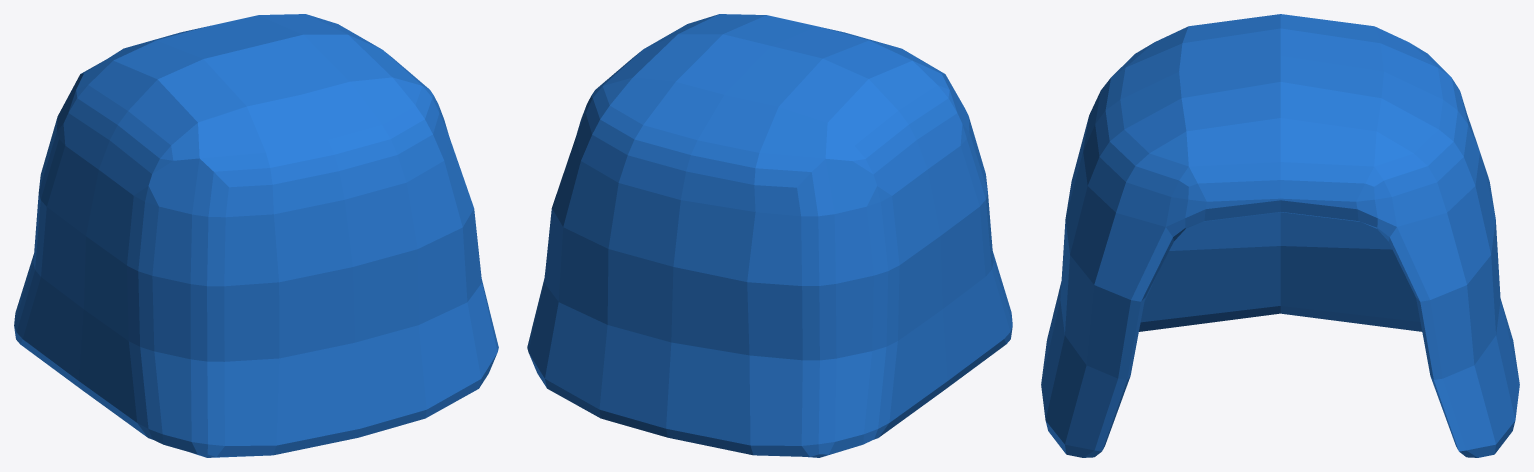
File: blue helmet.fbx
3 renders of one model, left to right at view 1: azimuth 30°, elevation 25°; view 2: azimuth 150°, elevation 25°; view 3: azimuth 270°, elevation 25°, orthographic. The views are drawn at different scales.
Parts seen in each view (by area): view 1: Cube; view 2: Cube; view 3: Cube.
Part boxes in pixels (<box>): Cube: <box>14,14,498,457</box>; Cube: <box>527,14,1012,457</box>; Cube: <box>1041,14,1519,457</box>.
Bounding box in the file's own units: 99.25 × 87.67 × 111.
